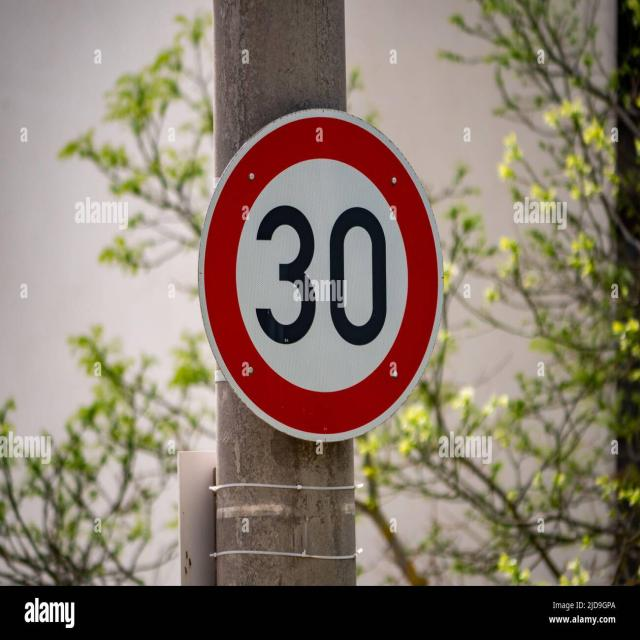speed_30: (201, 112, 443, 442)
